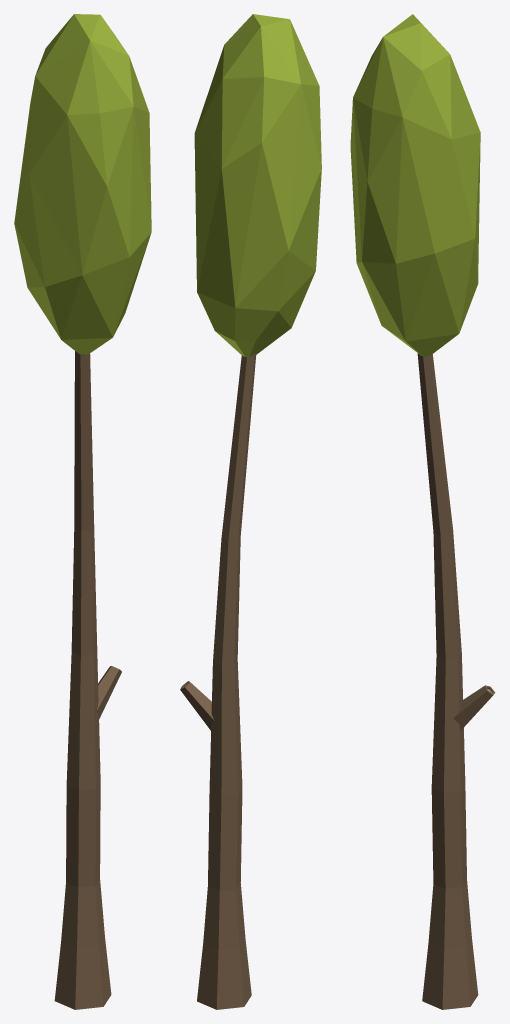
The model's file is LPW_Tree_C1_11m_01.fbx.
The picture shows the model from 3 angles, left to right: view 1: azimuth 30°, elevation 25°; view 2: azimuth 150°, elevation 25°; view 3: azimuth 330°, elevation 25°; orthographic projection. The views are drawn at different scales.
Parts seen in each view (by area): view 1: LPW_Tree_C1_11m_01; view 2: LPW_Tree_C1_11m_01; view 3: LPW_Tree_C1_11m_01.
Part boxes in pixels (left/top/right/bottom): LPW_Tree_C1_11m_01: left=14, top=14, right=151, bottom=1009; LPW_Tree_C1_11m_01: left=180, top=14, right=321, bottom=1009; LPW_Tree_C1_11m_01: left=350, top=14, right=495, bottom=1009.
Size of the model in its own units: 1.41 by 11.1 by 1.37.
